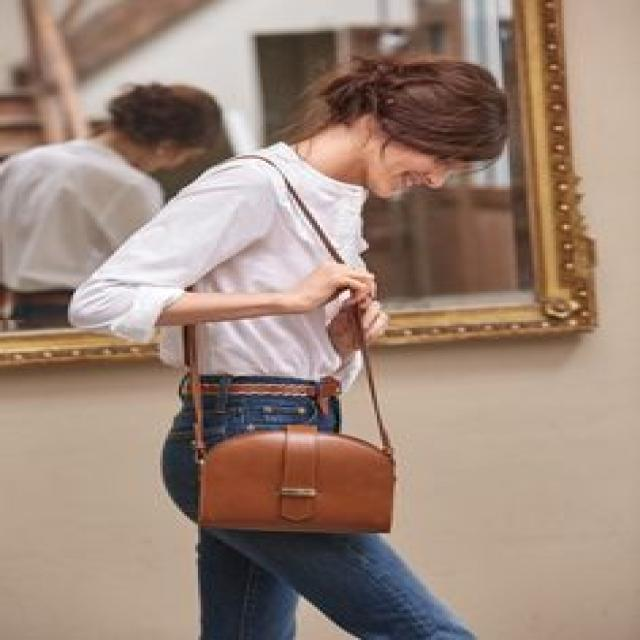handbag: (176, 420, 408, 548)
